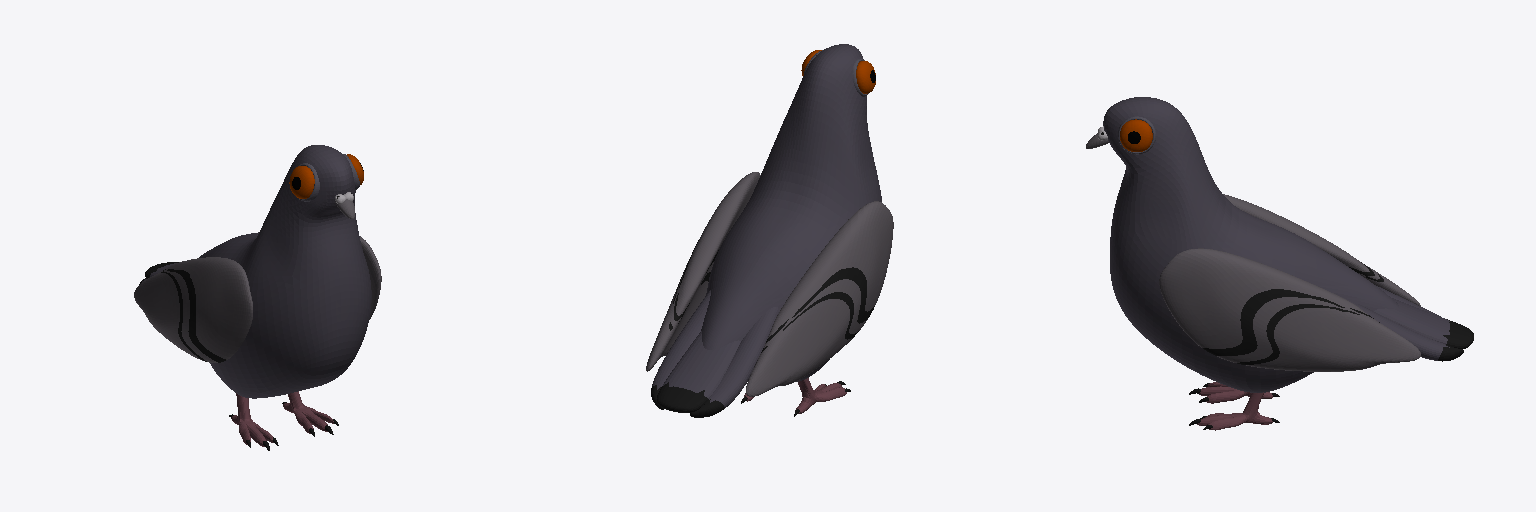
The model's file is PigeonBall.obj.
The picture shows the model from 3 angles: view 1: azimuth 30°, elevation 25°; view 2: azimuth 150°, elevation 25°; view 3: azimuth 270°, elevation 25°; orthographic projection.
Parts seen in each view (by area): view 1: polySurface55; view 2: polySurface55; view 3: polySurface55.
Part boxes in pixels (x1,y1,x2,y2): polySurface55: (134, 145, 381, 450); polySurface55: (646, 44, 893, 417); polySurface55: (1086, 97, 1473, 430).
Size of the model in its own units: 0.0451 by 0.0844 by 0.0951.